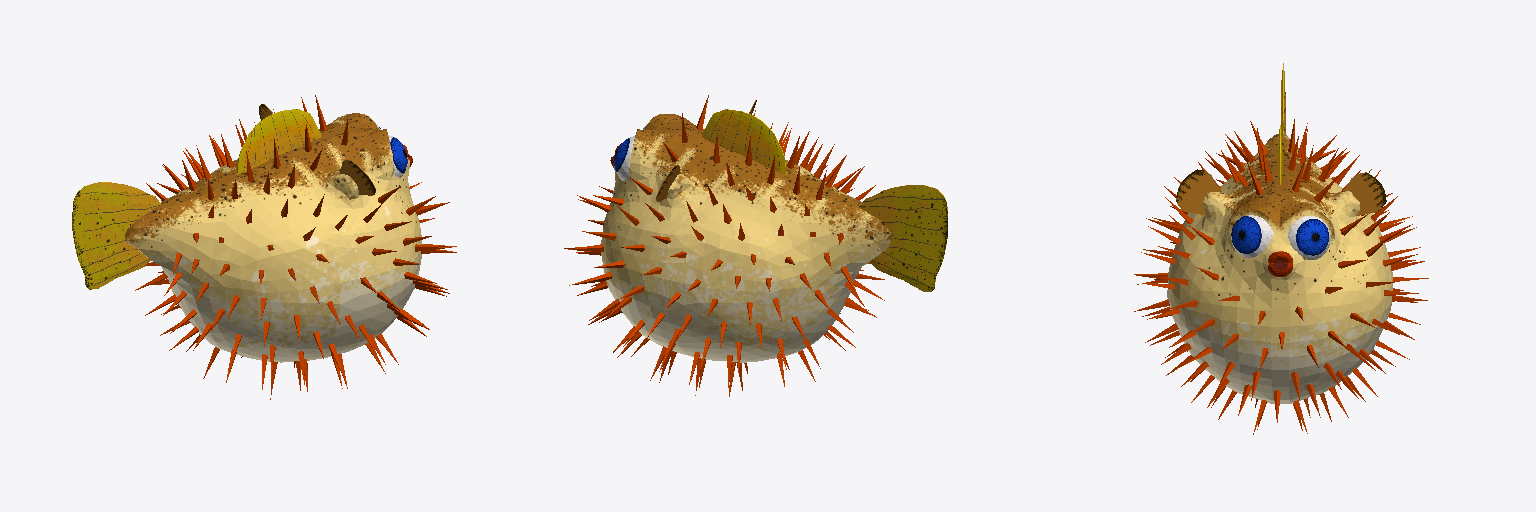
3 renders of one model, left to right at view 1: azimuth 30°, elevation 25°; view 2: azimuth 150°, elevation 25°; view 3: azimuth 270°, elevation 25°, orthographic.
Parts seen in each view (by area): view 1: Cube_Cube.004, Cone.094, Cube.002_Cube.001, Cube.001_Cube, Plane; view 2: Cube_Cube.004, Cone.094, Cube.002_Cube.001, Cube.001_Cube, Icosphere.001; view 3: Cube_Cube.004, Cone.094, Icosphere.001, Icosphere, Plane, Plane.001.
Boxes of the visible parts, <box> form: Cube_Cube.004: <box>125,113,421,362</box>; Cone.094: <box>135,95,456,399</box>; Cube.002_Cube.001: <box>72,182,161,289</box>; Cube.001_Cube: <box>237,109,321,174</box>; Plane: <box>340,160,375,195</box>; Cube_Cube.004: <box>601,114,893,362</box>; Cone.094: <box>564,95,884,396</box>; Cube.002_Cube.001: <box>859,185,947,291</box>; Cube.001_Cube: <box>702,109,786,174</box>; Icosphere.001: <box>614,136,634,180</box>; Cube_Cube.004: <box>1167,134,1392,403</box>; Cone.094: <box>1134,119,1428,434</box>; Icosphere.001: <box>1288,216,1330,259</box>; Icosphere: <box>1231,215,1273,257</box>; Plane: <box>1176,169,1221,215</box>; Plane.001: <box>1342,172,1386,215</box>.
Bounding box in the file's own units: 27.42 × 19.95 × 19.6.
6 materials, 5 textured.